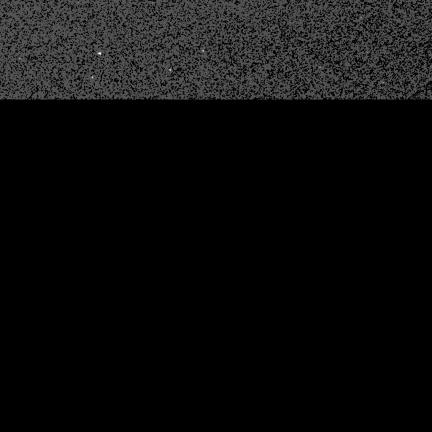blob: (98, 52, 102, 55)
